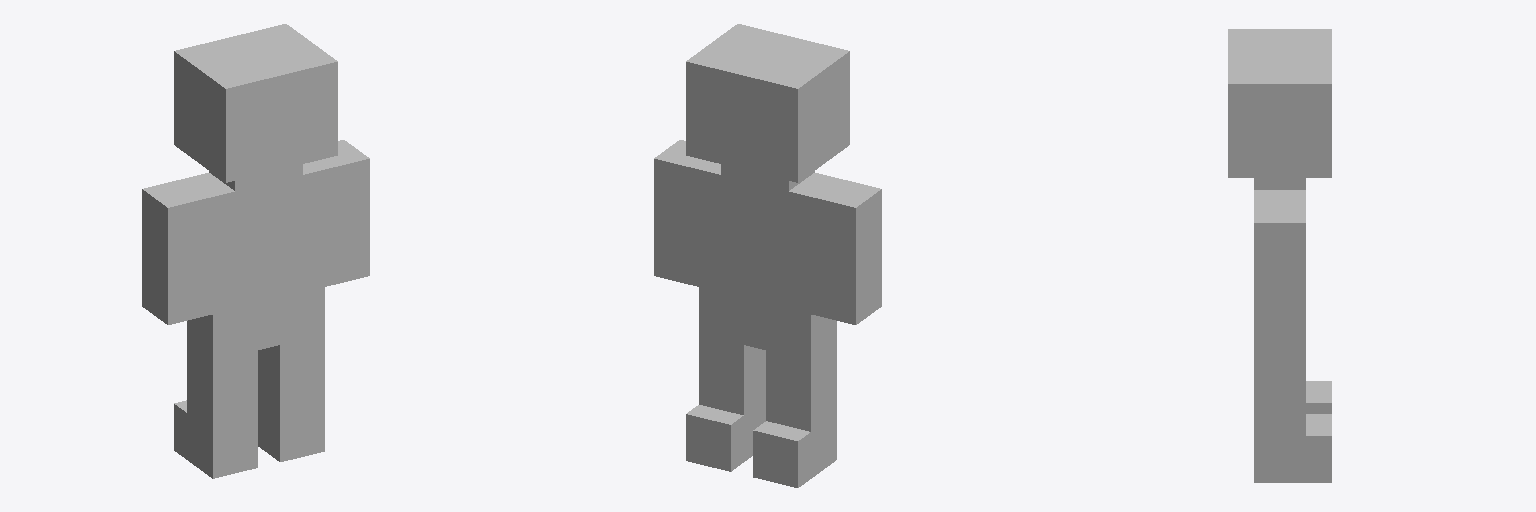
Rendered from Mercenario.obj.
3 views of the same model, side by side, from view 1: azimuth 30°, elevation 25°; view 2: azimuth 150°, elevation 25°; view 3: azimuth 270°, elevation 25° (orthographic).
Parts seen in each view (by area): view 1: Model; view 2: Model; view 3: Model.
Boxes of the visible parts, <box> form: Model: <box>142,24,369,478</box>; Model: <box>654,24,881,487</box>; Model: <box>1228,29,1331,482</box>.
Bounding box in the file's own units: 14.4 × 27.2 × 6.4.